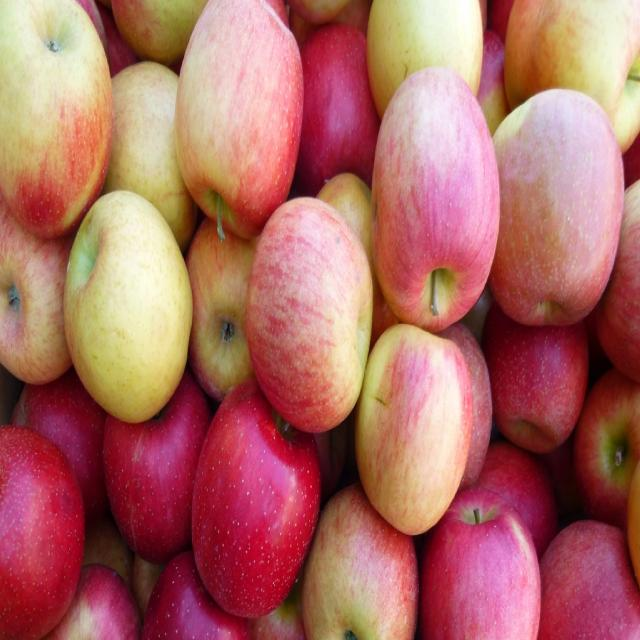Healty Apple: (0, 0, 639, 639), (1, 7, 118, 243)
